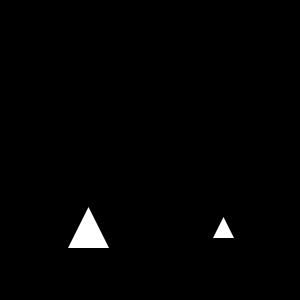triangle: (68, 207, 109, 248), (213, 217, 234, 238)
